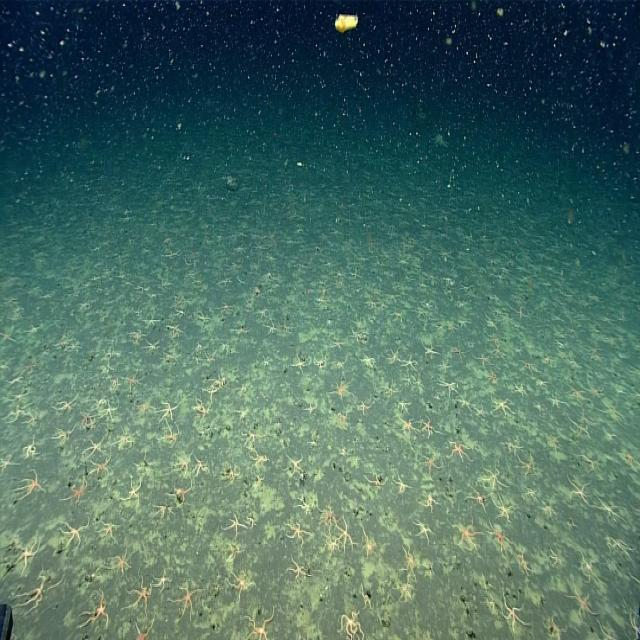brittle-stars: (85, 590, 111, 632), (19, 578, 51, 612), (566, 582, 594, 619), (502, 594, 526, 633), (18, 471, 46, 502), (129, 576, 153, 612), (487, 522, 512, 556), (16, 541, 40, 575), (392, 576, 420, 605), (452, 520, 478, 551), (340, 609, 366, 640), (566, 474, 590, 507), (248, 613, 277, 640), (61, 520, 87, 550), (230, 570, 255, 600), (482, 462, 507, 491), (180, 582, 201, 616), (286, 555, 310, 584), (597, 498, 622, 525), (66, 476, 88, 506), (164, 480, 191, 504), (226, 511, 249, 539), (493, 494, 514, 524), (400, 546, 419, 579), (448, 440, 472, 466), (575, 556, 603, 578), (468, 483, 489, 511), (338, 518, 355, 552), (0, 444, 17, 478), (287, 519, 308, 546), (132, 617, 156, 640), (491, 395, 513, 420), (422, 450, 441, 478), (415, 517, 434, 545), (360, 528, 377, 559), (99, 518, 120, 543), (111, 552, 132, 577), (543, 615, 564, 640), (125, 479, 144, 506), (3, 386, 30, 405), (515, 555, 536, 579), (580, 448, 600, 473), (202, 383, 219, 412), (242, 425, 264, 447), (154, 501, 177, 522), (284, 455, 305, 478), (518, 454, 538, 478), (318, 504, 338, 528), (162, 422, 180, 448), (332, 380, 353, 402), (90, 458, 112, 479), (159, 399, 179, 422), (114, 430, 134, 453), (154, 567, 173, 591), (174, 453, 192, 478), (357, 584, 375, 609), (192, 454, 209, 480), (56, 394, 77, 415), (567, 384, 587, 406), (54, 425, 74, 447), (5, 402, 25, 424), (221, 462, 240, 485), (396, 471, 415, 494), (421, 488, 439, 512), (600, 403, 624, 421), (225, 539, 242, 564), (626, 610, 640, 640), (448, 341, 466, 364), (24, 437, 40, 462), (87, 438, 107, 458), (439, 377, 458, 398), (400, 352, 418, 373), (324, 530, 338, 557), (102, 402, 120, 423), (603, 536, 630, 550), (192, 398, 210, 419), (290, 352, 307, 374), (393, 476, 410, 498), (421, 416, 437, 439), (565, 423, 588, 439), (125, 372, 143, 392), (400, 416, 418, 436), (475, 350, 493, 370), (77, 406, 92, 430), (386, 346, 404, 366), (422, 340, 439, 361), (599, 624, 621, 640), (296, 496, 315, 514), (134, 455, 152, 474), (359, 350, 376, 370), (382, 381, 399, 401), (349, 325, 366, 345), (485, 367, 502, 387), (365, 356, 382, 376), (504, 436, 522, 454), (550, 392, 566, 412), (366, 472, 386, 488), (540, 500, 556, 520), (548, 431, 564, 451), (3, 373, 23, 389), (167, 320, 184, 338), (253, 450, 271, 467), (576, 408, 594, 425), (549, 548, 564, 568), (134, 399, 152, 415), (0, 328, 16, 346), (144, 311, 159, 330), (357, 399, 372, 418), (513, 380, 528, 399), (313, 351, 328, 370), (123, 329, 143, 343), (300, 399, 316, 416), (332, 334, 346, 353), (196, 310, 212, 326), (144, 339, 159, 356), (266, 318, 279, 337), (459, 395, 474, 411), (396, 398, 412, 413), (214, 372, 229, 388), (99, 359, 114, 375), (523, 483, 537, 500), (438, 358, 452, 375), (586, 382, 603, 396), (624, 448, 637, 466), (100, 347, 118, 360), (26, 412, 40, 428), (219, 299, 233, 314), (334, 410, 349, 424), (106, 377, 121, 391), (515, 360, 536, 370), (158, 353, 178, 363), (257, 358, 272, 371), (236, 382, 248, 398), (233, 322, 249, 334), (474, 407, 487, 421), (414, 374, 424, 392), (257, 306, 269, 321), (252, 474, 263, 490), (246, 511, 256, 528), (235, 406, 248, 419), (26, 322, 39, 335), (480, 576, 490, 592), (334, 357, 346, 370), (484, 317, 497, 329), (170, 309, 187, 318), (307, 438, 318, 451), (55, 336, 68, 347), (482, 599, 496, 609), (205, 352, 216, 364), (24, 362, 37, 372), (491, 348, 504, 358), (89, 418, 98, 432), (403, 375, 413, 387), (173, 298, 185, 308), (281, 322, 291, 334), (533, 379, 548, 387), (530, 402, 542, 412), (68, 342, 80, 352), (243, 300, 254, 310), (489, 334, 499, 345), (446, 322, 455, 334), (193, 341, 203, 351), (459, 317, 469, 327), (192, 354, 200, 364)
